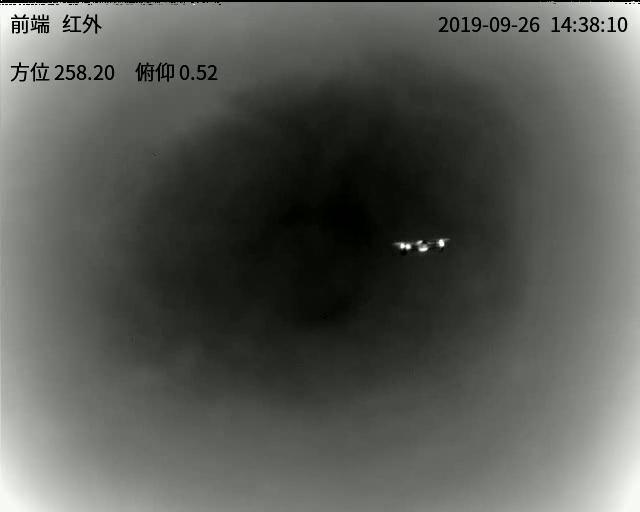DRONE: (395, 236, 447, 258)
